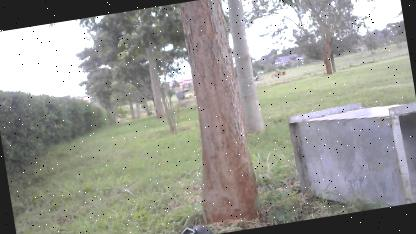tree: (160, 0, 267, 230)
